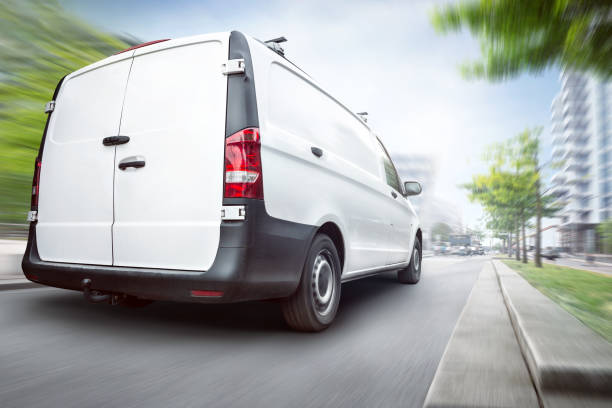Car: (20, 30, 422, 332), (19, 177, 29, 187)
